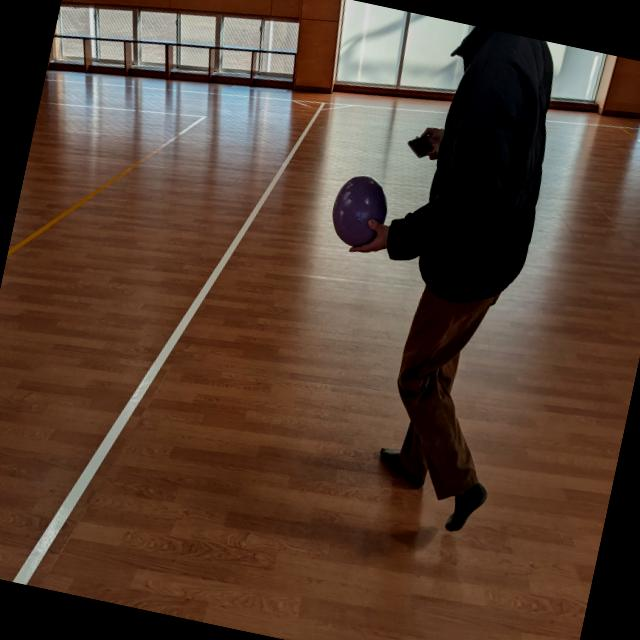purple_ball: (325, 171, 394, 254)
